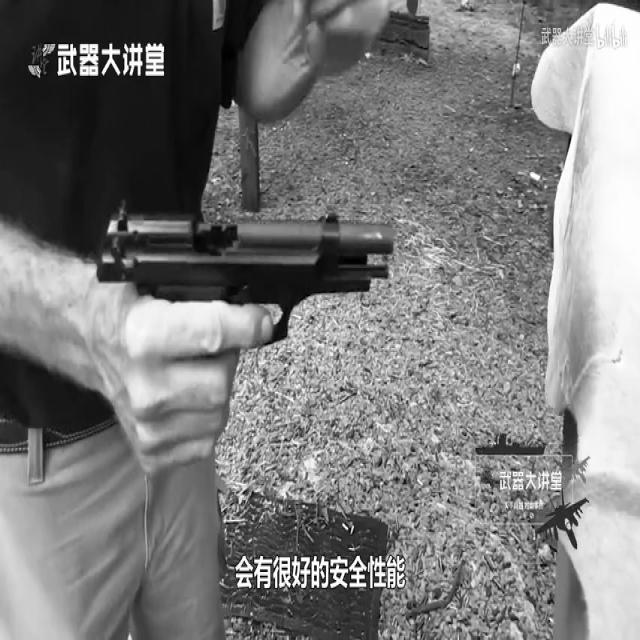Hand-Gun: (99, 191, 413, 429)
